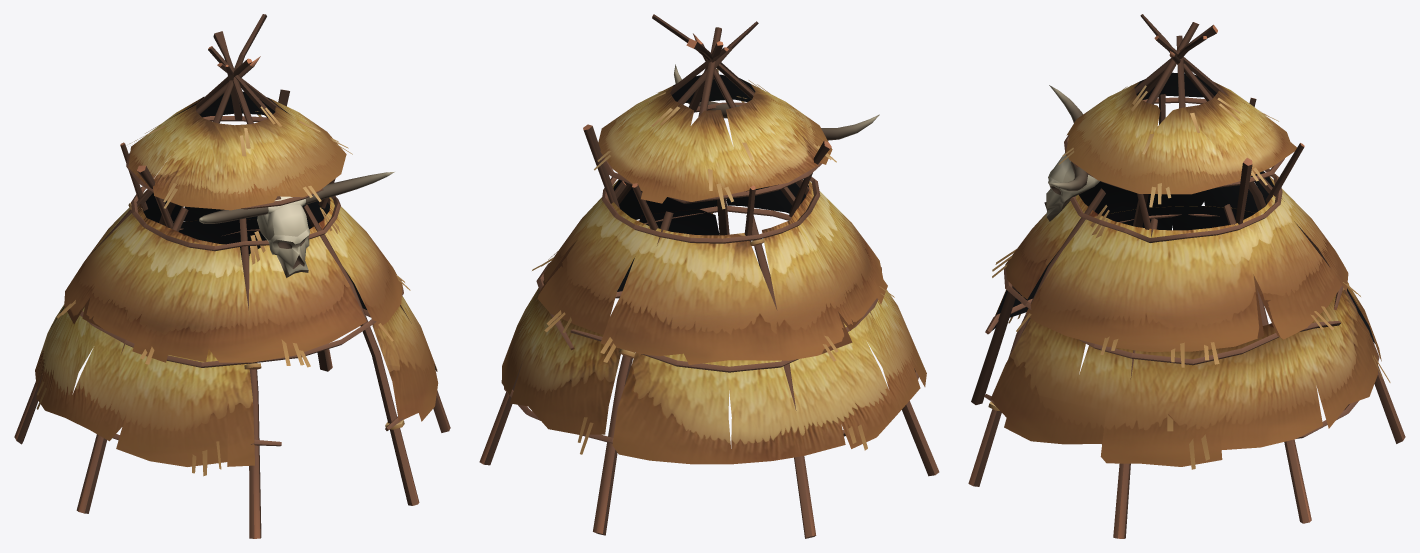
Rendered from Hut_2D.fbx.
3 renders of one model, left to right at view 1: azimuth 30°, elevation 25°; view 2: azimuth 150°, elevation 25°; view 3: azimuth 270°, elevation 25°, orthographic. The views are drawn at different scales.
Parts seen in each view (by area): view 1: Hut_2D, Hut_2D_Giant_Skull; view 2: Hut_2D, Hut_2D_Giant_Skull; view 3: Hut_2D, Hut_2D_Giant_Skull.
Boxes of the visible parts, box(x1,y1,x2,y2) form: Hut_2D: box(14, 14, 450, 538); Hut_2D_Giant_Skull: box(199, 172, 394, 277); Hut_2D: box(479, 14, 939, 538); Hut_2D_Giant_Skull: box(674, 64, 879, 140); Hut_2D: box(968, 14, 1405, 538); Hut_2D_Giant_Skull: box(1044, 85, 1099, 221).
Size of the model in its own units: 558 by 602 by 550.
